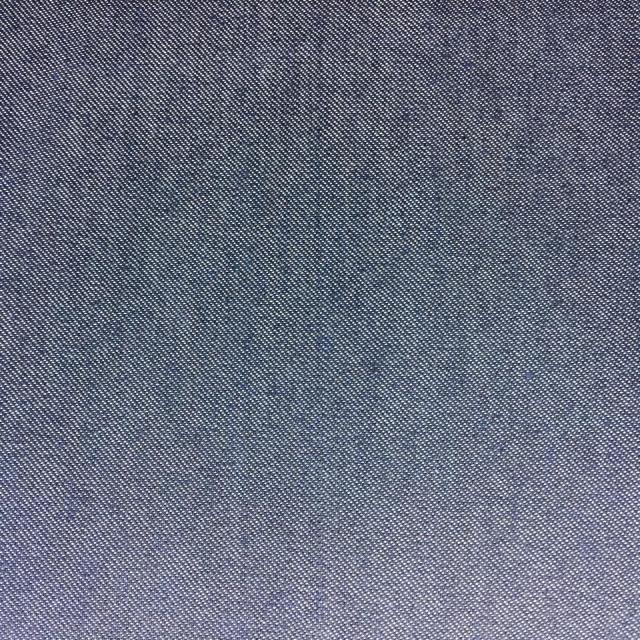Line: (312, 19, 325, 636)
